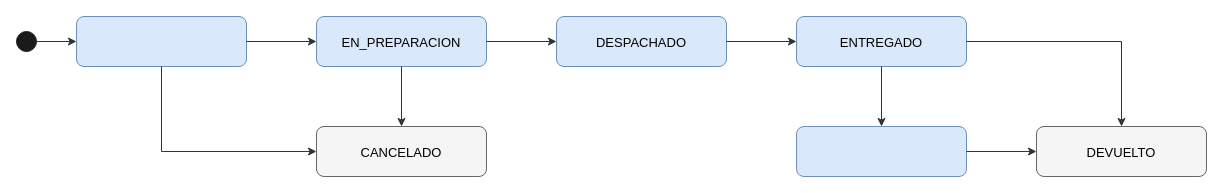
The diagram is 1223 pixels wide and 193 high, and some of its shapes have lost their labels. The centre of each missing label's shape, as x and y in pixels:
"DEVUELTO_PARCIAL" goes at (881,151).
"PAGADO" goes at (161,41).
